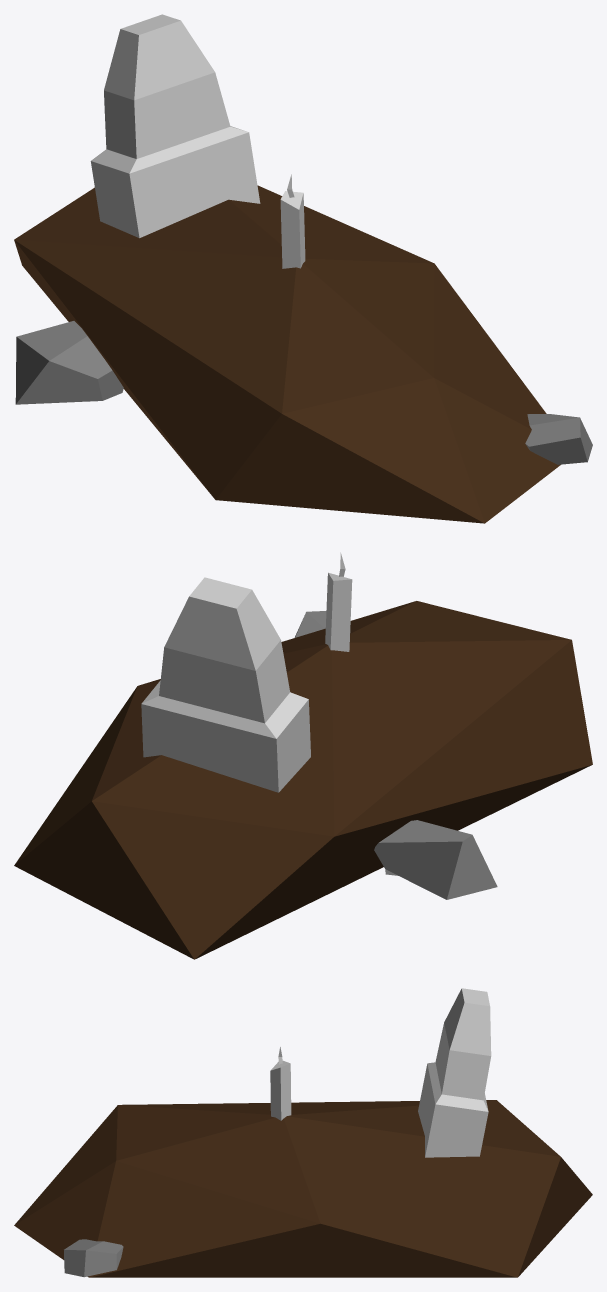
File: gravemini.fbx
3 views of the same model, one above another, from view 1: azimuth 30°, elevation 25°; view 2: azimuth 150°, elevation 25°; view 3: azimuth 270°, elevation 25° (orthographic). The views are drawn at different scales.
Parts seen in each view (by area): view 1: Gravesite, Circle; view 2: Gravesite, Circle; view 3: Gravesite, Circle.
Boxes of the visible parts, x1=… form: Gravesite: x1=14, y1=14, x2=592, y2=523; Circle: x1=280, y1=174, x2=305, y2=268; Gravesite: x1=14, y1=577, x2=592, y2=959; Circle: x1=325, y1=552, x2=352, y2=651; Gravesite: x1=14, y1=988, x2=592, y2=1277; Circle: x1=270, y1=1047, x2=291, y2=1120.
Bounding box in the file's own units: 127 × 93 × 217.
